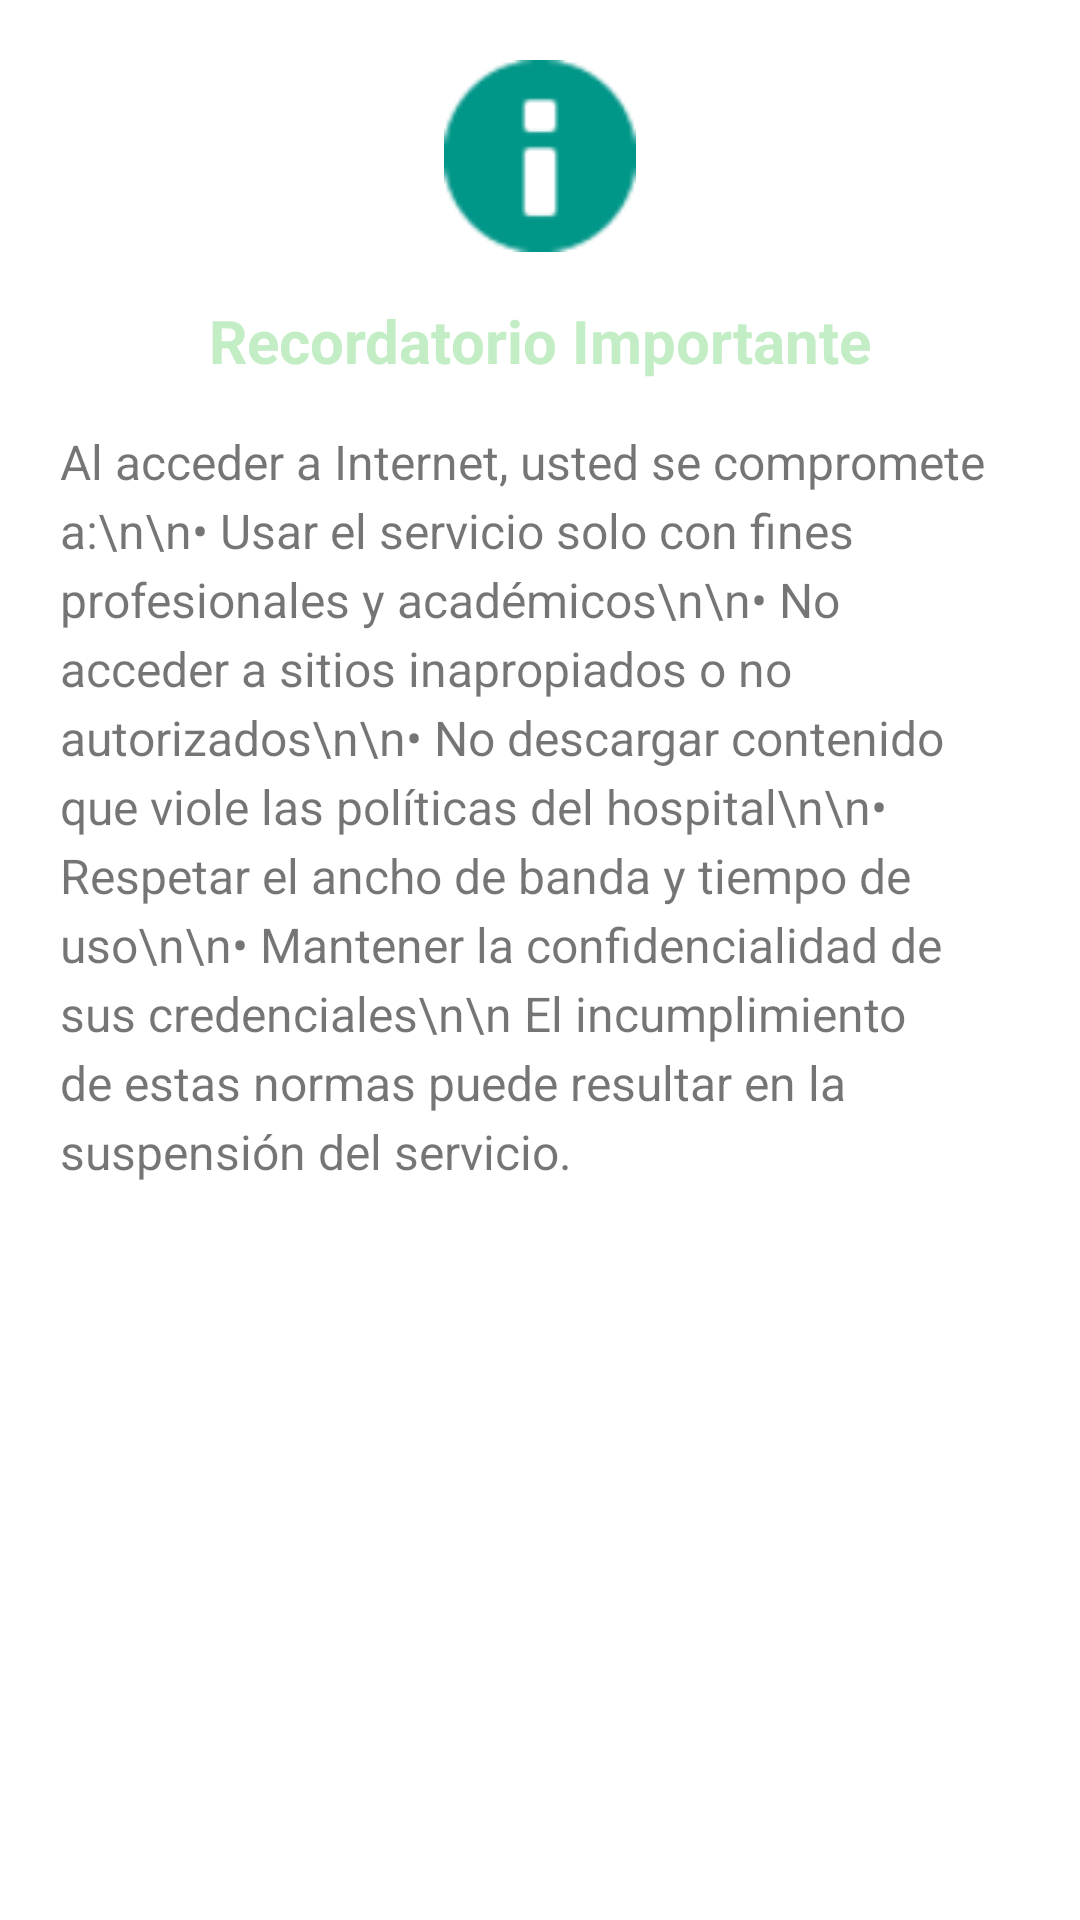

Icons on this 1080 × 1920 Android screen, each with its box as (x1, y1, x2, y2):
info: (444, 60, 636, 252)
